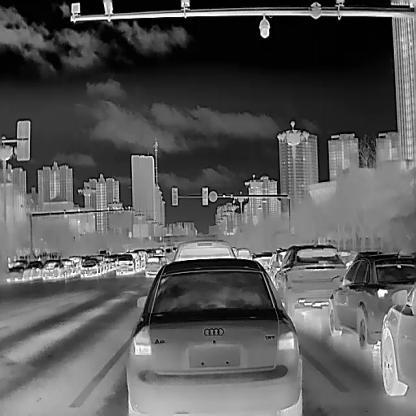car: (124, 257, 300, 415), (328, 250, 416, 350), (272, 243, 347, 318), (379, 282, 415, 396), (172, 238, 235, 263), (5, 258, 28, 281), (41, 259, 64, 280), (113, 253, 135, 273), (143, 255, 162, 277), (28, 259, 44, 280), (80, 257, 98, 275), (61, 258, 77, 277), (236, 247, 250, 258)
